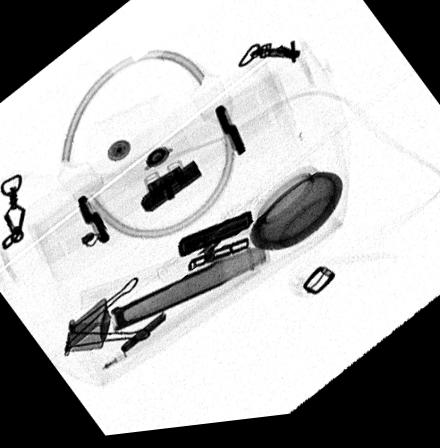Lighter: (176, 215, 253, 261)
